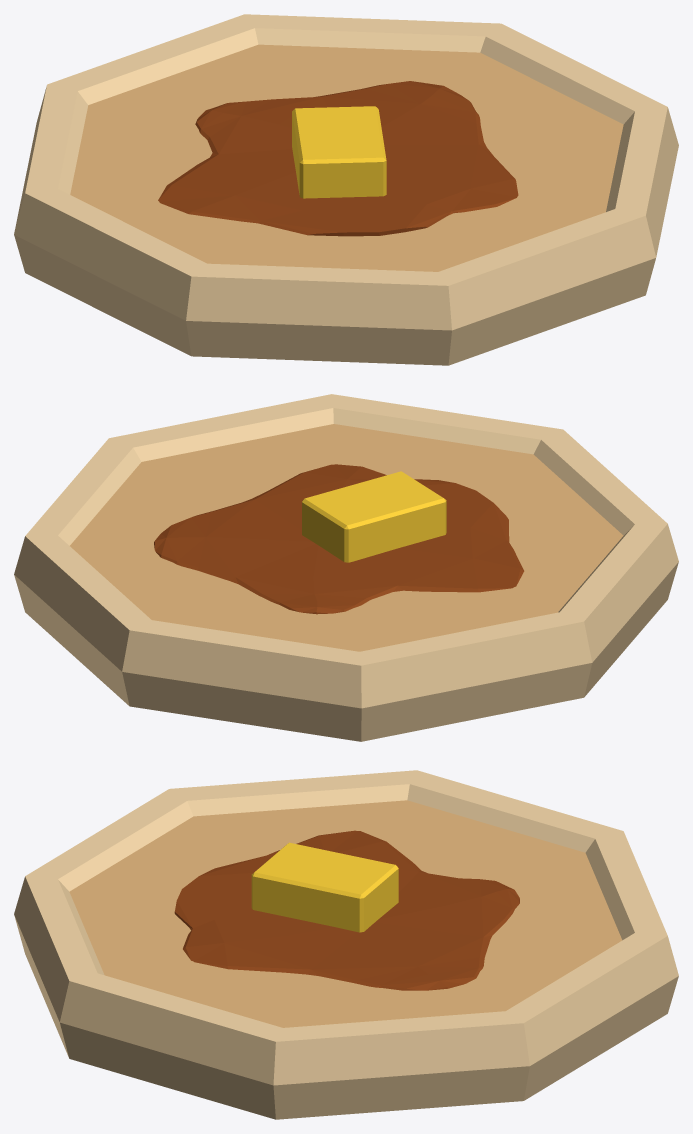
File: Pancake.obj
3 views of the same model, one above another, from view 1: azimuth 30°, elevation 25°; view 2: azimuth 150°, elevation 25°; view 3: azimuth 270°, elevation 25° (orthographic). The views are drawn at different scales.
Visible parts, largest first — view 1: Pancake_LightBeige, Pancake_Light, Pancake_Syrup, Pancake_Yellow; view 2: Pancake_LightBeige, Pancake_Light, Pancake_Syrup, Pancake_Yellow; view 3: Pancake_LightBeige, Pancake_Light, Pancake_Syrup, Pancake_Yellow.
Part boxes in pixels (bbox=[...]): Pancake_LightBeige: bbox=[14, 14, 678, 365]; Pancake_Light: bbox=[70, 44, 623, 271]; Pancake_Syrup: bbox=[158, 81, 518, 236]; Pancake_Yellow: bbox=[292, 106, 386, 198]; Pancake_LightBeige: bbox=[14, 394, 678, 741]; Pancake_Light: bbox=[70, 424, 623, 651]; Pancake_Syrup: bbox=[154, 464, 524, 614]; Pancake_Yellow: bbox=[302, 471, 446, 562]; Pancake_LightBeige: bbox=[14, 770, 678, 1119]; Pancake_Light: bbox=[69, 800, 622, 1027]; Pancake_Syrup: bbox=[174, 830, 519, 990]; Pancake_Yellow: bbox=[251, 842, 398, 932].
Size of the model in its own units: 1.44 by 0.2553 by 1.44.
